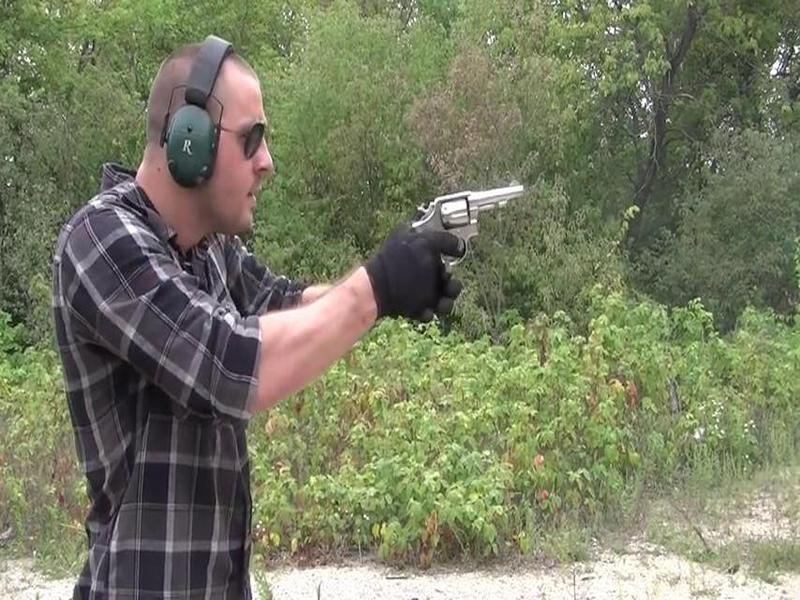Revolver: (404, 174, 534, 272)
